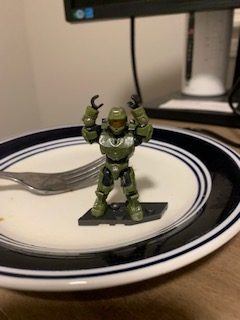chief: (80, 90, 152, 221)
spartan: (82, 92, 154, 223)
up: (78, 88, 154, 161)
